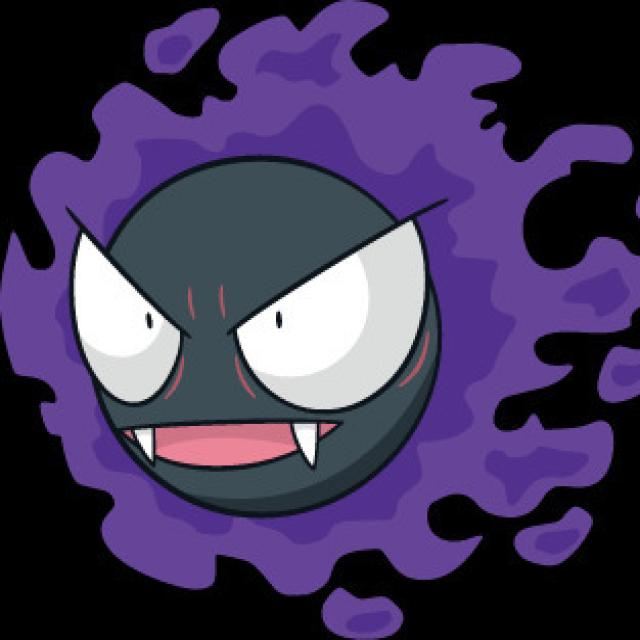Gastly: (27, 43, 576, 559)
